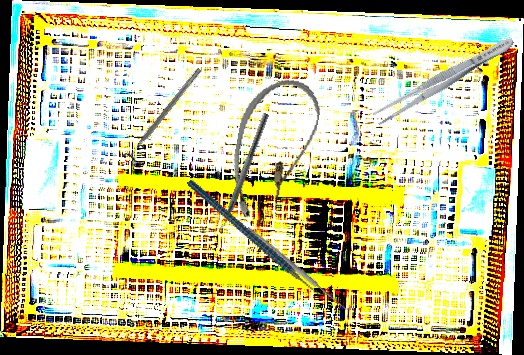Cannula: (222, 72, 326, 228)
Chopper: (186, 147, 334, 330), (211, 109, 270, 237)
Dressing Forceps: (371, 32, 518, 128)
Fixation Ring: (121, 63, 207, 167)
Hook Surgical: (244, 222, 354, 314)
